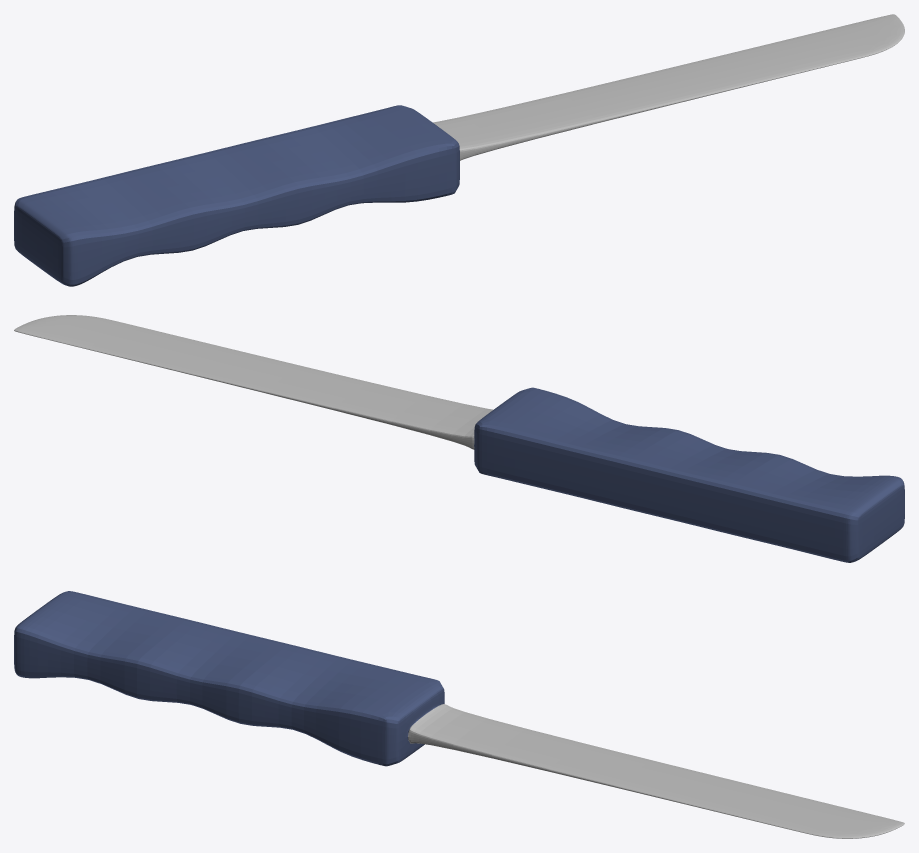
The model's file is KitchenKnife.fbx.
The picture shows the model from 3 angles, top to bottom: view 1: azimuth 30°, elevation 25°; view 2: azimuth 150°, elevation 25°; view 3: azimuth 330°, elevation 25°; orthographic projection. The views are drawn at different scales.
Parts seen in each view (by area): view 1: Cube; view 2: Cube; view 3: Cube.
Boxes of the visible parts, x1=… form: Cube: x1=14, y1=14, x2=904, y2=286; Cube: x1=14, y1=315, x2=904, y2=562; Cube: x1=14, y1=591, x2=904, y2=838.
Bounding box in the file's own units: 911 × 52.9 × 102.
